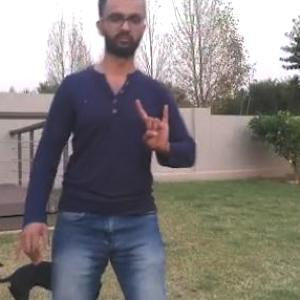takeoff-hand: (132, 95, 176, 162)
